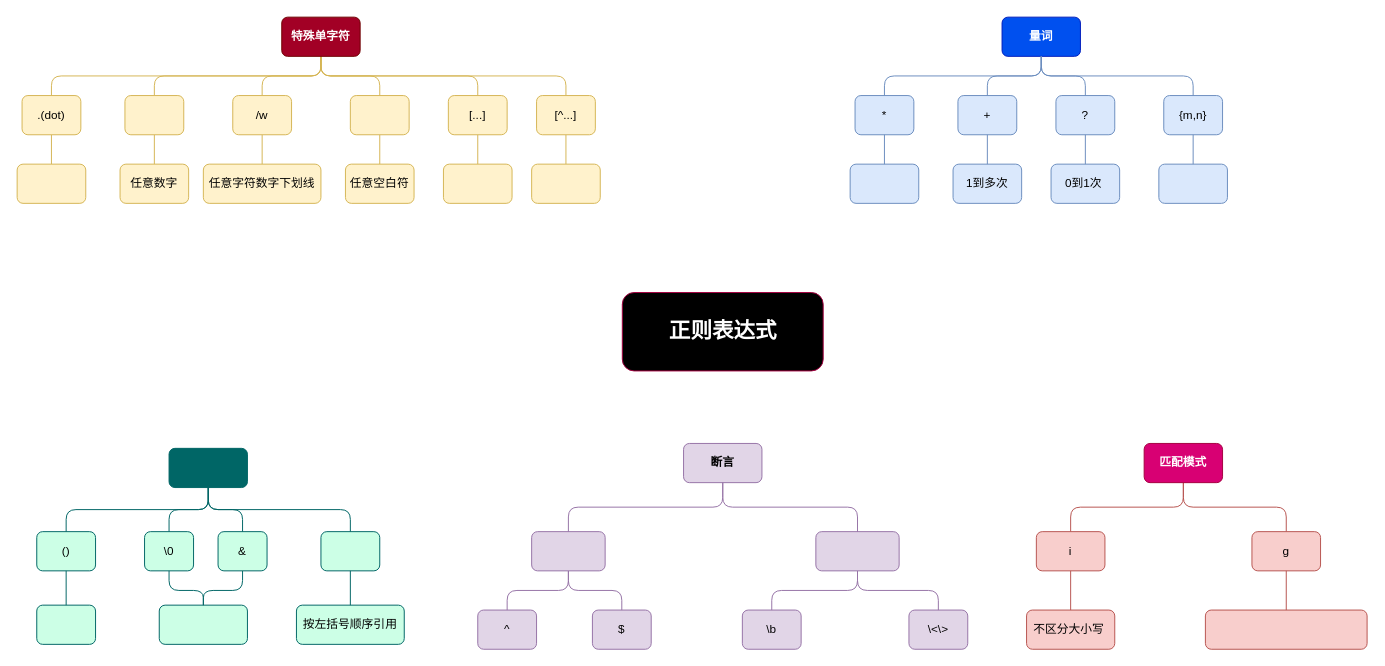
This 1385x666 diagram has some shape labels left out. Here are the shapes that lost their labels. From the top down, the centre of each, then its label:
At pixel 154 115: "/d".
At pixel 379 115: "/s".
At pixel 51 183: "任意字符 （\n除外）".
At pixel 477 183: "多选一".
At pixel 565 183: "取反".
At pixel 884 183: "0到多次".
At pixel 1192 183: "m到n次".
At pixel 207 467: "分组引用".
At pixel 350 551: "括号嵌套".
At pixel 568 551: "行边界".
At pixel 857 551: "单词边界".
At pixel 66 624: "分组".
At pixel 202 624: "正则全部引用".
At pixel 1285 629: "多行匹配模式 (是^$匹配每行的开头结尾)".
